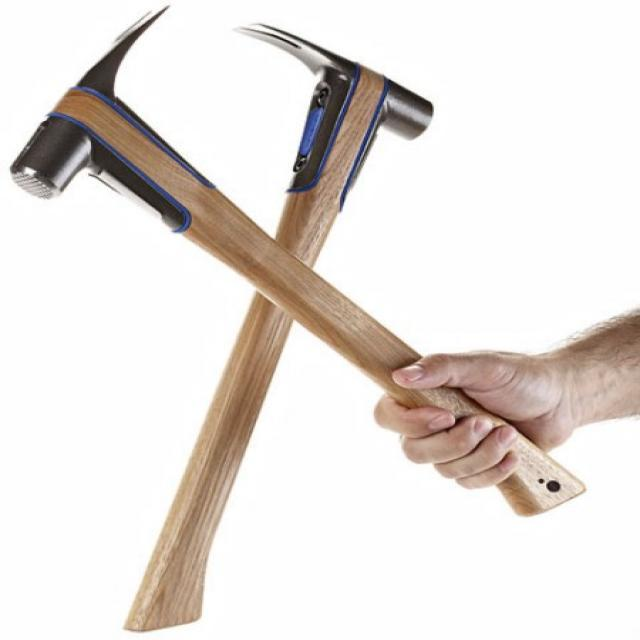hammer: (2, 6, 238, 304), (240, 12, 450, 212)
